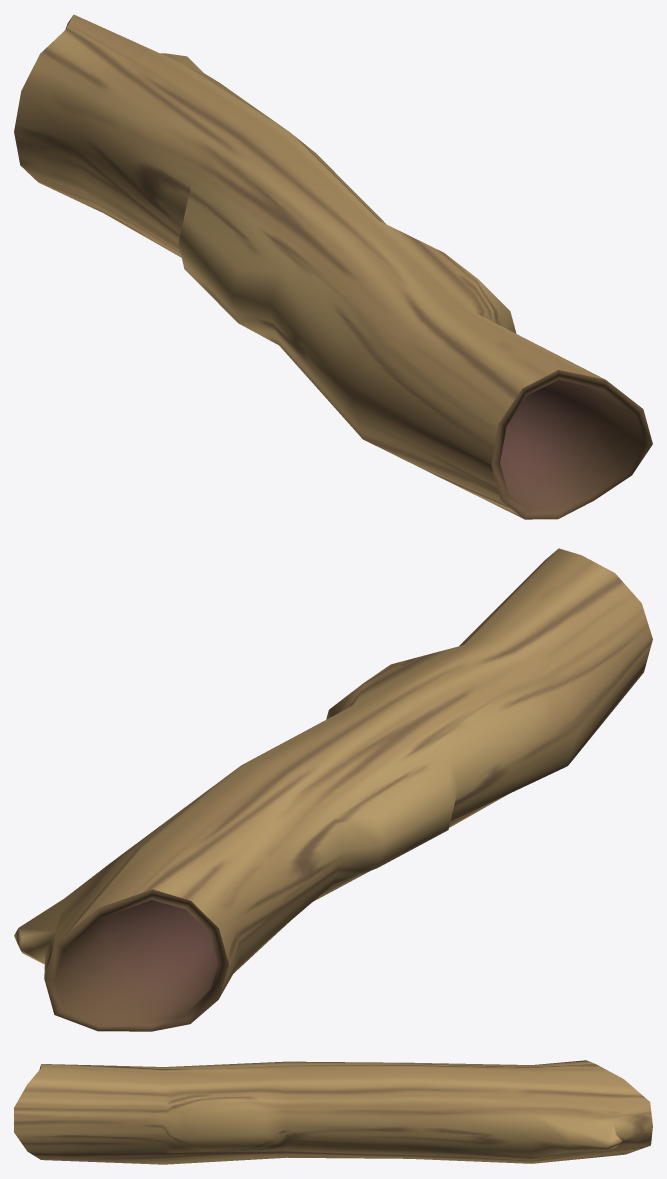
Rendered from touboku2.fbx.
3 renders of one model, top to bottom at view 1: azimuth 30°, elevation 25°; view 2: azimuth 150°, elevation 25°; view 3: azimuth 270°, elevation 25°, orthographic. The views are drawn at different scales.
Parts seen in each view (by area): view 1: pCylinder6; view 2: pCylinder6; view 3: pCylinder6.
Part boxes in pixels (left/top/right/bottom): pCylinder6: left=14, top=14, right=652, bottom=519; pCylinder6: left=14, top=548, right=652, bottom=1031; pCylinder6: left=14, top=1060, right=652, bottom=1164.
Size of the model in its own units: 0.4414 by 0.3278 by 1.93.
